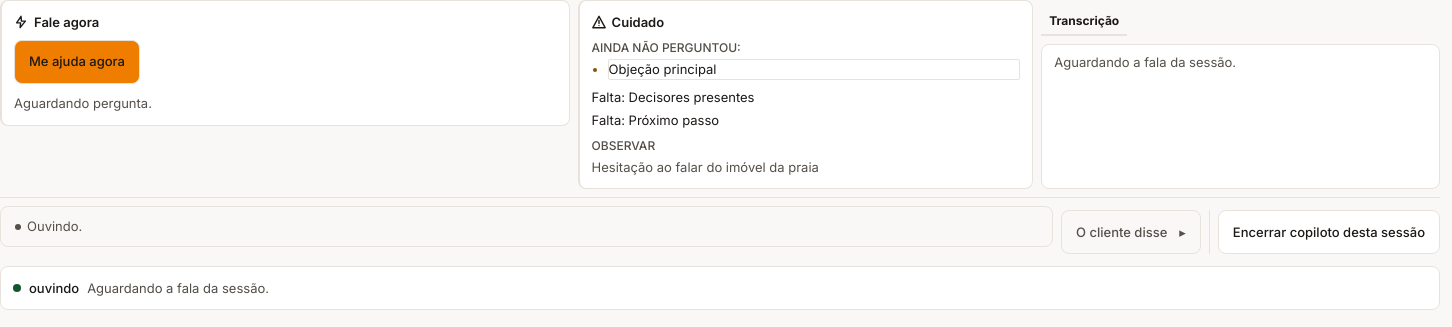
Test: PainelCopiloto — Fatia 2, botão Me ajuda agora › visivel:false NÃO renderiza a sugestão — é sucesso, mostra aviso sóbrio
This screenshot has width=1452, height=327.
Click the button "Me ajuda agora".
click(77, 62)  # box [14,40,140,84]
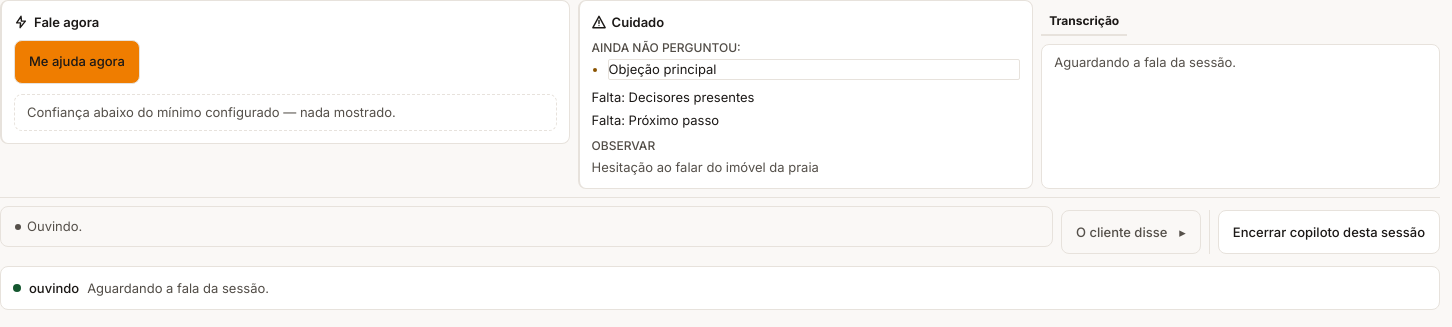
Expected: the text "Confiança abaixo do mínimo configurado — nada mostrado." is shown, [14,94,557,131]
